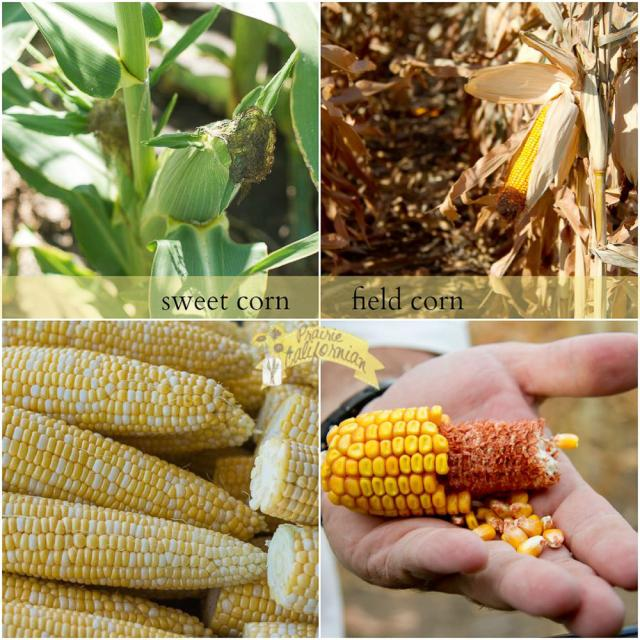corn: (0, 394, 267, 544), (0, 501, 257, 592), (0, 342, 231, 432)
